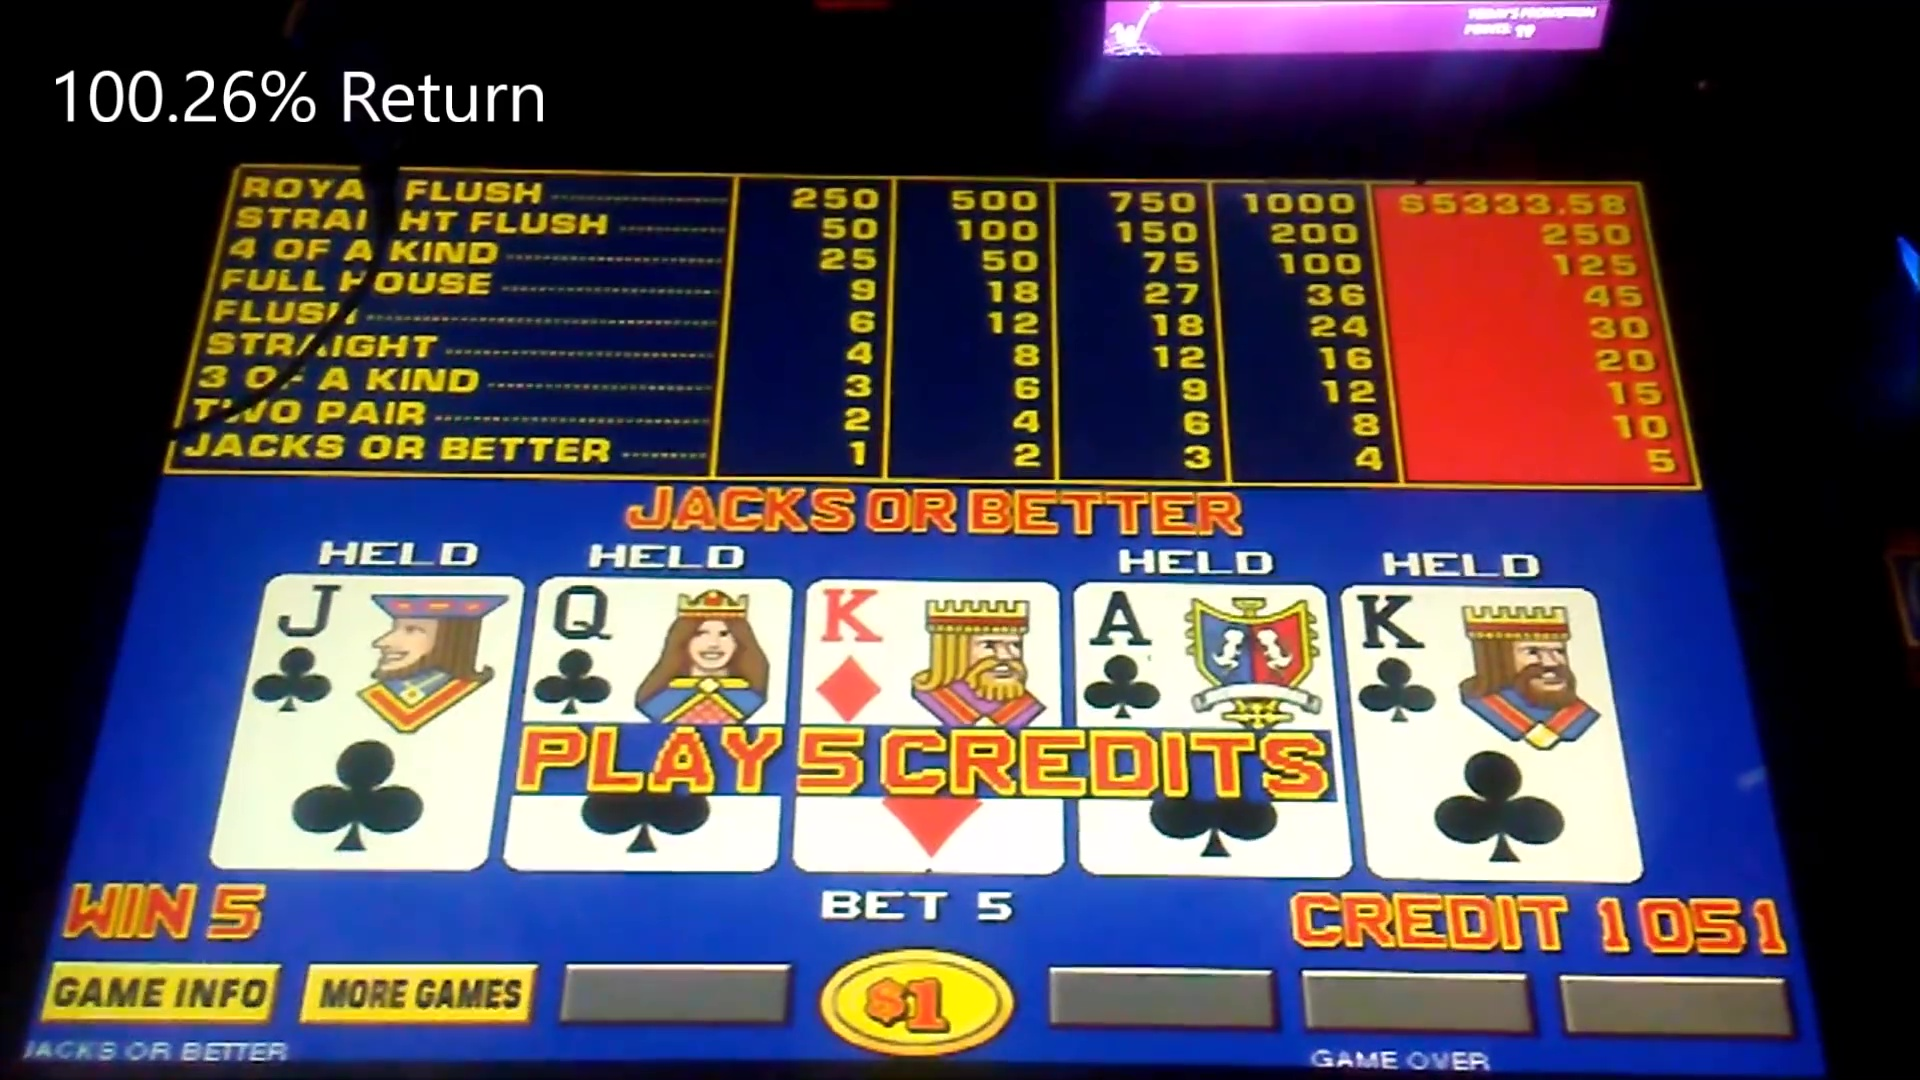CA: (1079, 588, 1317, 723)
CJ: (260, 574, 502, 740)
CK: (1345, 589, 1613, 731)
CQ: (545, 578, 785, 724)
DK: (807, 580, 1062, 724)
